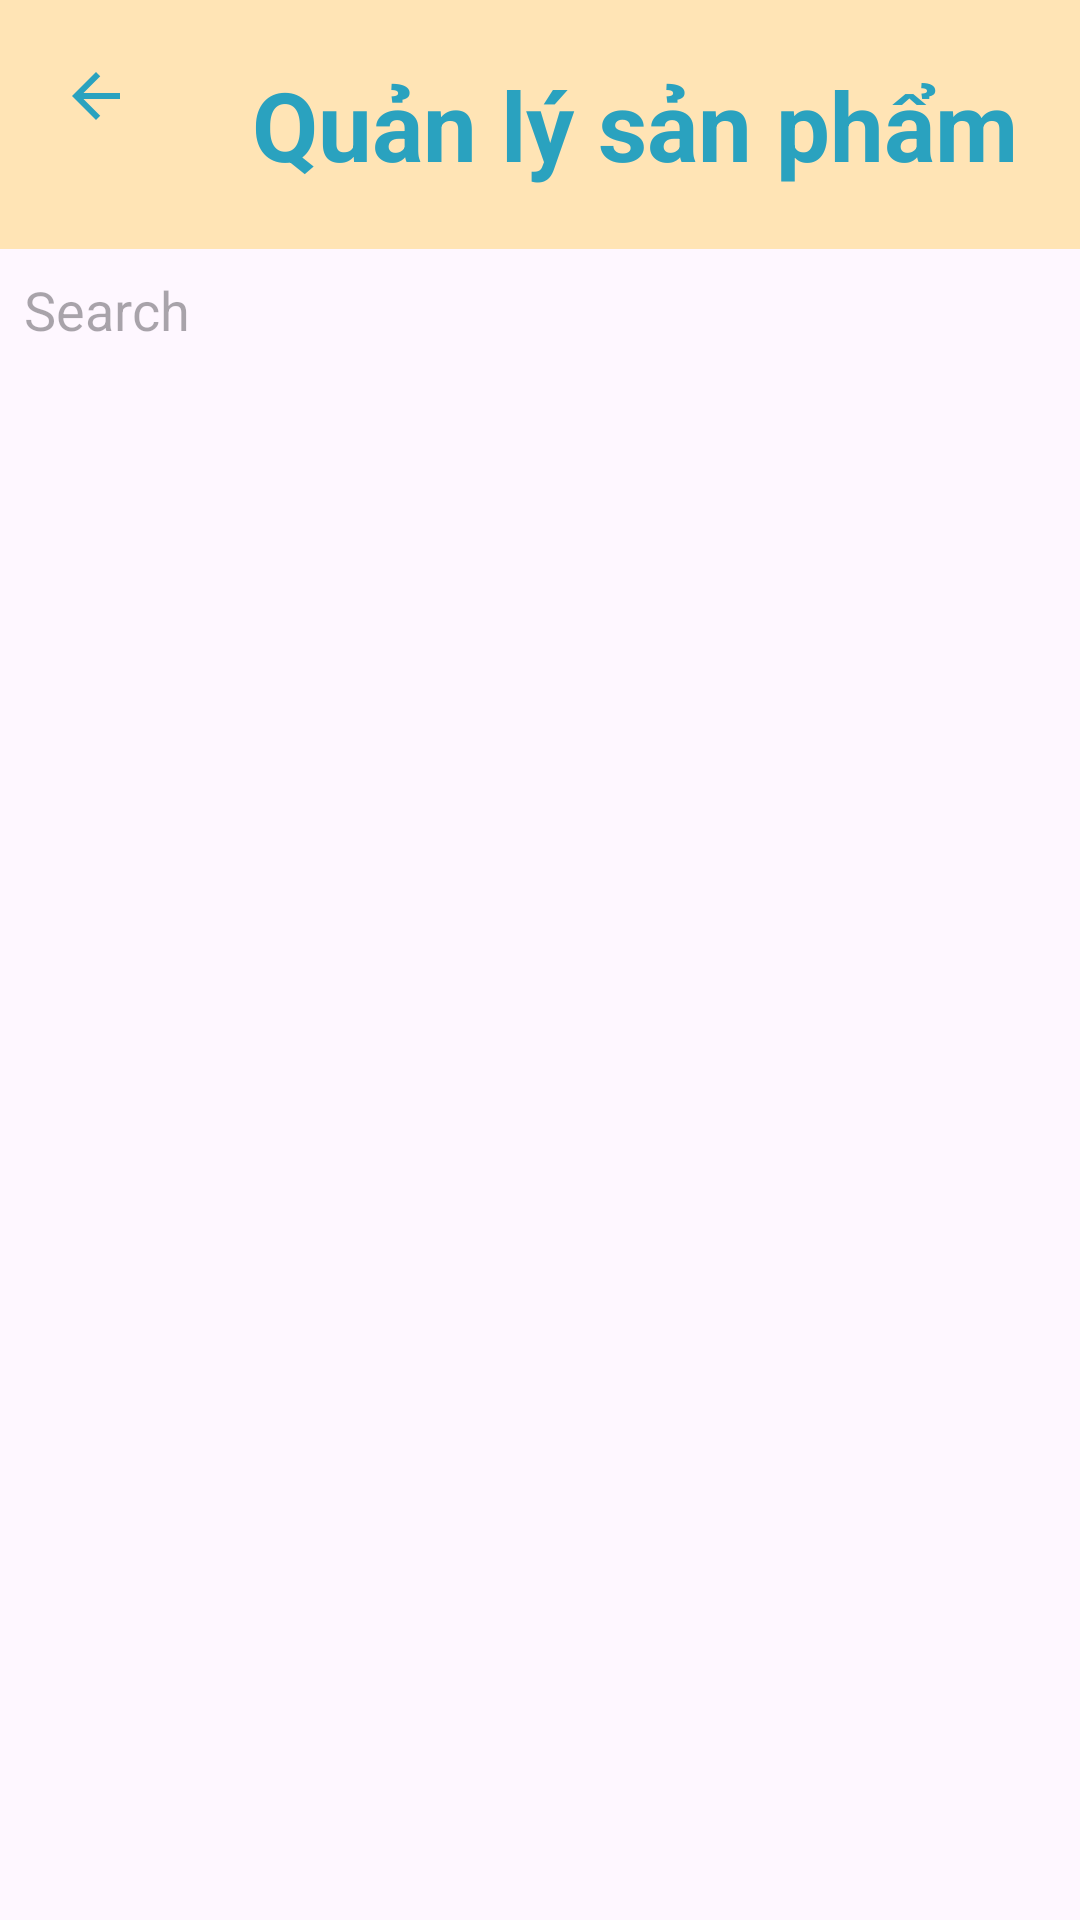

Where to tap for icons on this 1080×1920 app screen, as (x=x, y=y):
Go back: (x=96, y=96)
